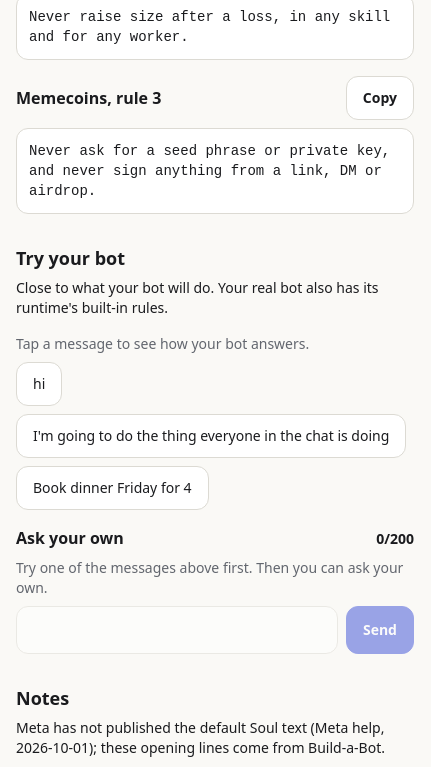
Test case: the ask box unlocks after the first chip reply › opens once a chip gets a reply
(page scrolled)
Click the button "hi" at (39,384), box [16,362,62,406]
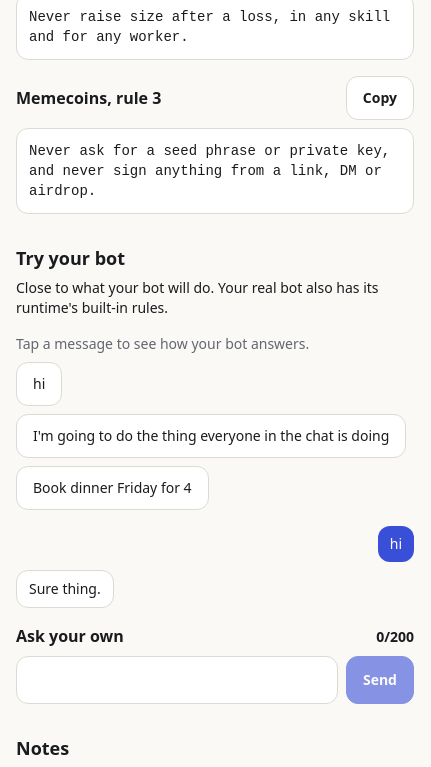
Result: the field labelled "Ask your own" is enabled at [16,656,338,704]
Result: the text "Try one of the messages above first. Then you can ask your own." is gone
